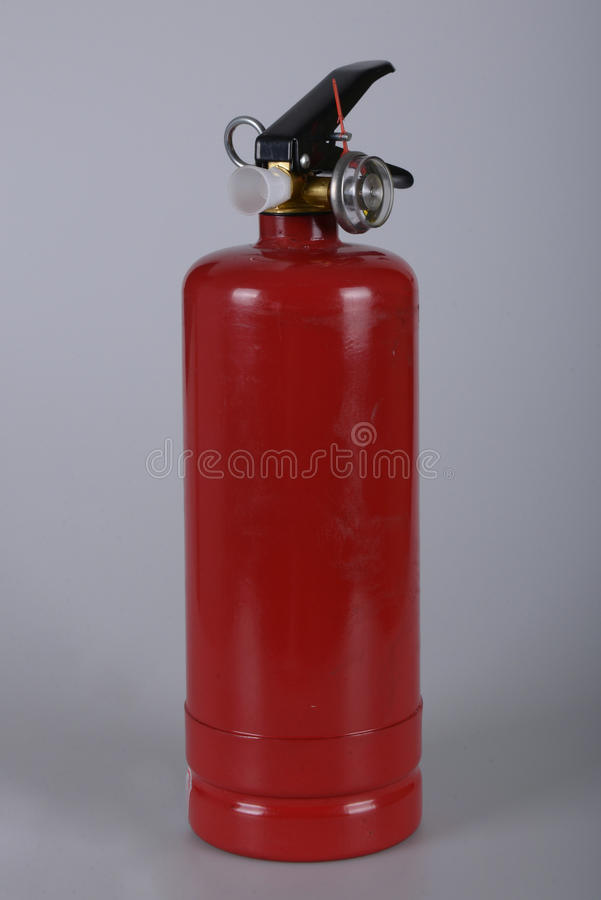fire_extinguisher: (181, 59, 424, 862)
